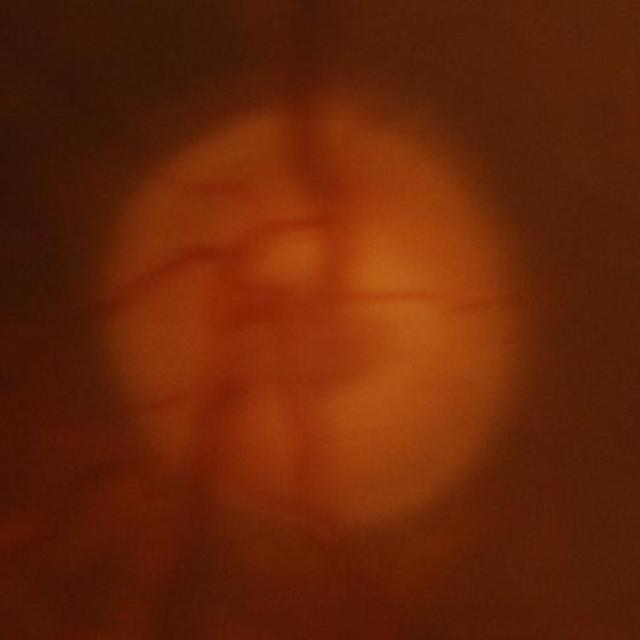OC: (232, 220, 444, 420)
OD: (84, 109, 512, 539)
